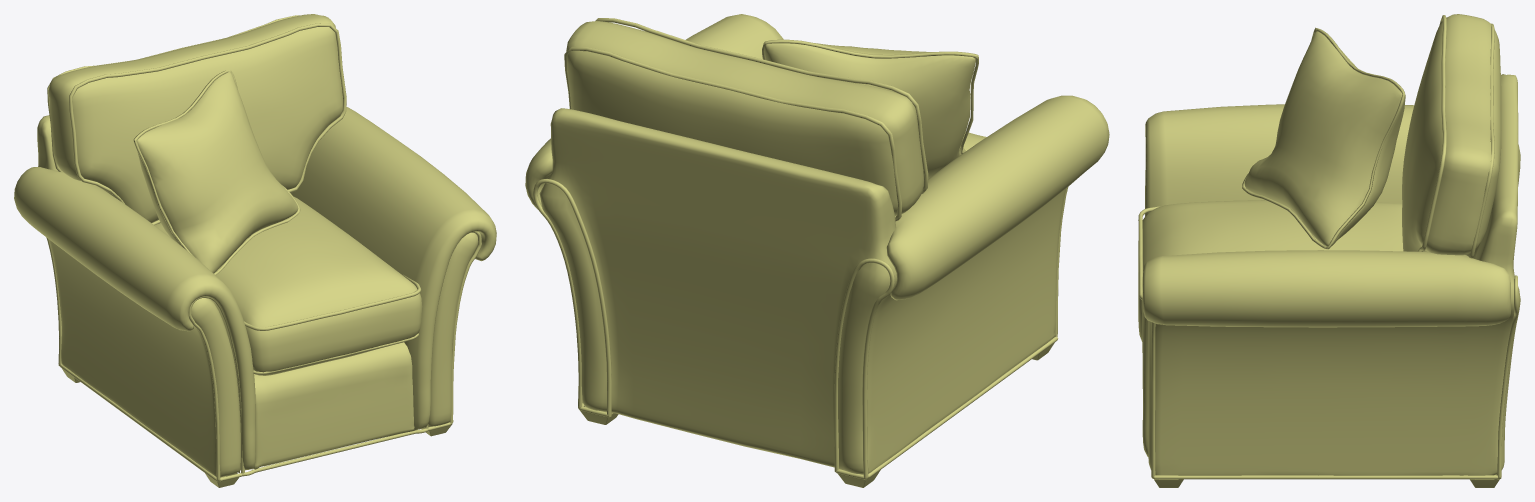
The model's file is SofaSet_Gen_1_Armchair.fbx.
The picture shows the model from 3 angles, left to right: view 1: azimuth 30°, elevation 25°; view 2: azimuth 150°, elevation 25°; view 3: azimuth 270°, elevation 25°; orthographic projection. The views are drawn at different scales.
Visible parts, largest first — view 1: mesh_armchair; view 2: mesh_armchair; view 3: mesh_armchair.
Part boxes in pixels (bbox=[...]): mesh_armchair: bbox=[14, 14, 496, 487]; mesh_armchair: bbox=[525, 14, 1109, 487]; mesh_armchair: bbox=[1138, 14, 1520, 487].
Size of the model in its own units: 113 by 101 by 101.
